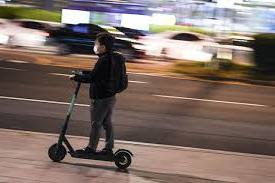nonhelmet: (48, 31, 135, 169)
